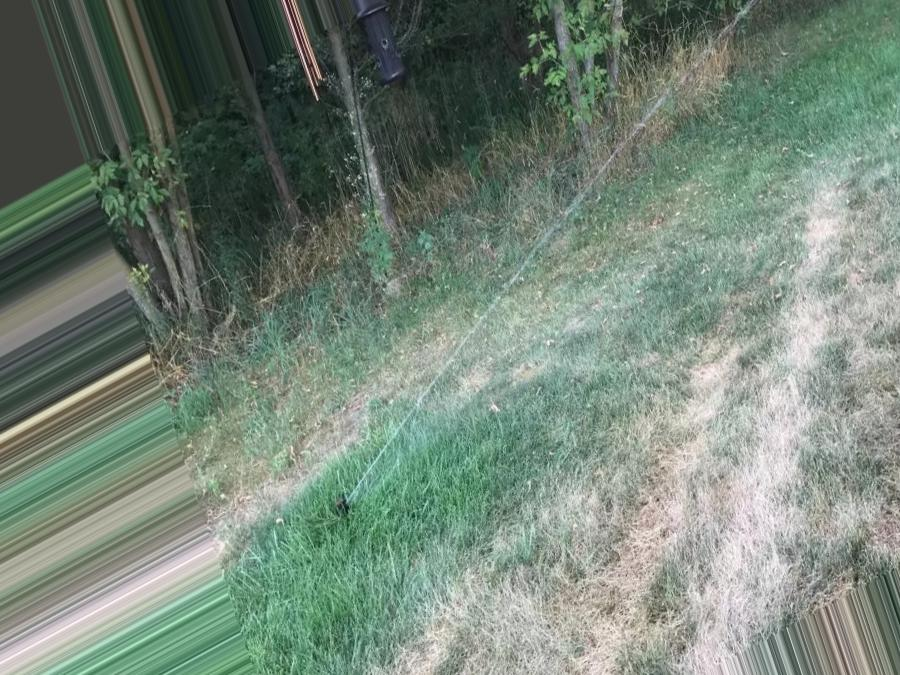patch: (683, 330, 795, 639), (814, 187, 893, 578), (570, 456, 670, 669)
